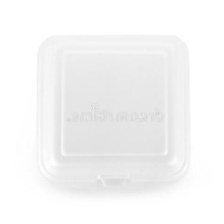foam_box: (30, 26, 199, 195)
